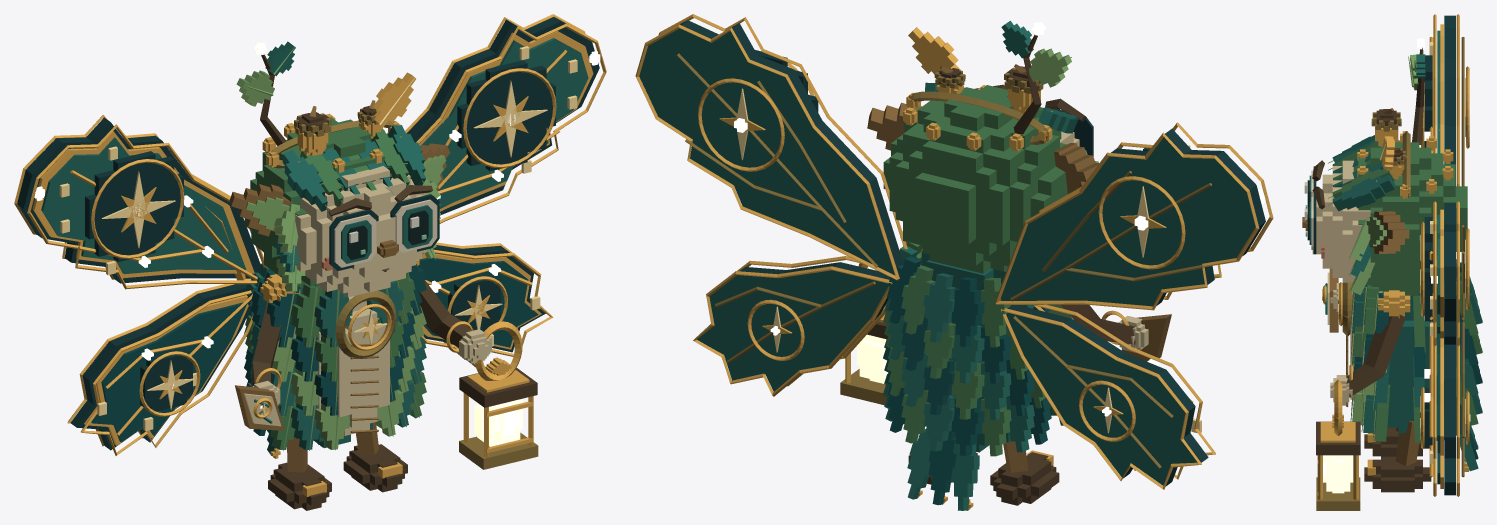
Rendered from wayfinder-sprite.glb.
The picture shows the model from 3 angles, left to right: view 1: azimuth 30°, elevation 25°; view 2: azimuth 150°, elevation 25°; view 3: azimuth 270°, elevation 25°; orthographic projection. The views are drawn at different scales.
Visible parts, largest first — view 1: wayfinder-sprite-wing-left-mesh, wayfinder-sprite-body-mesh, wayfinder-sprite-head-mesh, wayfinder-sprite-wing-right-mesh; view 2: wayfinder-sprite-wing-left-mesh, wayfinder-sprite-wing-right-mesh, wayfinder-sprite-head-mesh, wayfinder-sprite-body-mesh, wayfinder-sprite-tail-mesh; view 3: wayfinder-sprite-body-mesh, wayfinder-sprite-head-mesh, wayfinder-sprite-wing-right-mesh, wayfinder-sprite-wing-left-mesh, wayfinder-sprite-tail-mesh.
Part boxes in pixels (x1,y1,x2,y2): wayfinder-sprite-wing-left-mesh: (14, 115, 266, 455); wayfinder-sprite-body-mesh: (235, 259, 538, 510); wayfinder-sprite-head-mesh: (229, 41, 450, 297); wayfinder-sprite-wing-right-mesh: (405, 14, 606, 367); wayfinder-sprite-wing-left-mesh: (995, 122, 1273, 489); wayfinder-sprite-wing-right-mesh: (635, 14, 907, 396); wayfinder-sprite-head-mesh: (867, 20, 1098, 273); wayfinder-sprite-body-mesh: (840, 231, 1171, 505); wayfinder-sprite-tail-mesh: (907, 427, 979, 510); wayfinder-sprite-body-mesh: (1316, 259, 1482, 510); wayfinder-sprite-head-mesh: (1302, 38, 1467, 295); wayfinder-sprite-wing-right-mesh: (1420, 201, 1470, 496); wayfinder-sprite-wing-left-mesh: (1421, 14, 1470, 186); wayfinder-sprite-tail-mesh: (1456, 404, 1478, 471).
Size of the model in its own units: 1.33 by 0.99 by 0.4022.
